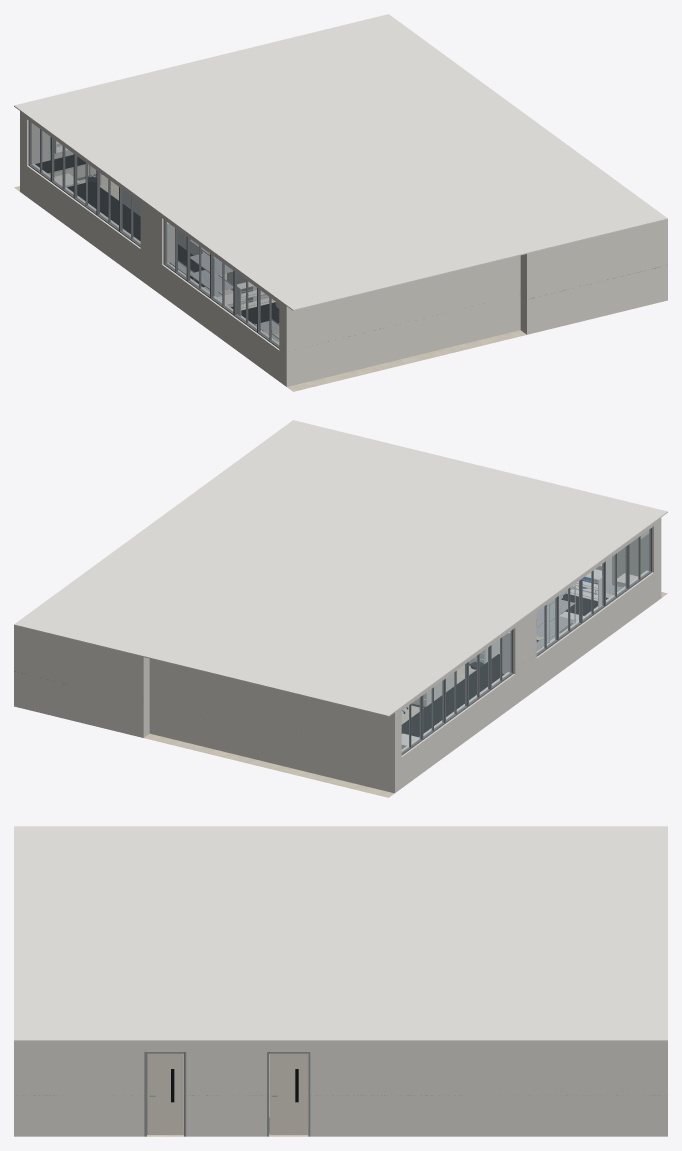
File: lab.glb
The picture shows the model from 3 angles, top to bottom: view 1: azimuth 30°, elevation 25°; view 2: azimuth 150°, elevation 25°; view 3: azimuth 270°, elevation 25°; orthographic projection. The views are drawn at different scales.
Visible parts, largest first — view 1: 天井, 壁, 窓, 壁_腰高, 床, A-D6, A-D4, A-S6; view 2: 天井, 壁, 窓, 壁_腰高, 床, A-D6, A-S6, A-D4; view 3: 天井, 壁, 壁_腰高, 扉_出入口, 扉_物品庫東.
Boxes of the visible parts, left/top/right/bottom form: 天井: left=14, top=14, right=667, bottom=310; 壁: left=20, top=111, right=667, bottom=386; 窓: left=28, top=121, right=279, bottom=348; 壁_腰高: left=20, top=150, right=667, bottom=386; 床: left=14, top=175, right=526, bottom=391; A-D6: left=67, top=181, right=193, bottom=261; A-D4: left=231, top=282, right=279, bottom=334; A-S6: left=190, top=240, right=233, bottom=296; 天井: left=14, top=420, right=667, bottom=716; 壁: left=14, top=518, right=661, bottom=793; 窓: left=401, top=527, right=652, bottom=755; 壁_腰高: left=14, top=556, right=661, bottom=792; 床: left=144, top=588, right=667, bottom=797; A-D6: left=401, top=654, right=504, bottom=736; A-S6: left=536, top=585, right=575, bottom=640; A-D4: left=536, top=572, right=608, bottom=626; 天井: left=14, top=826, right=667, bottom=1041; 壁: left=14, top=1041, right=667, bottom=1136; 壁_腰高: left=14, top=1095, right=667, bottom=1136; 扉_出入口: left=267, top=1051, right=310, bottom=1136; 扉_物品庫東: left=144, top=1051, right=186, bottom=1136.
Size of the model in its own units: 11.63 by 2.43 by 15.
47 materials, 1 textured.
